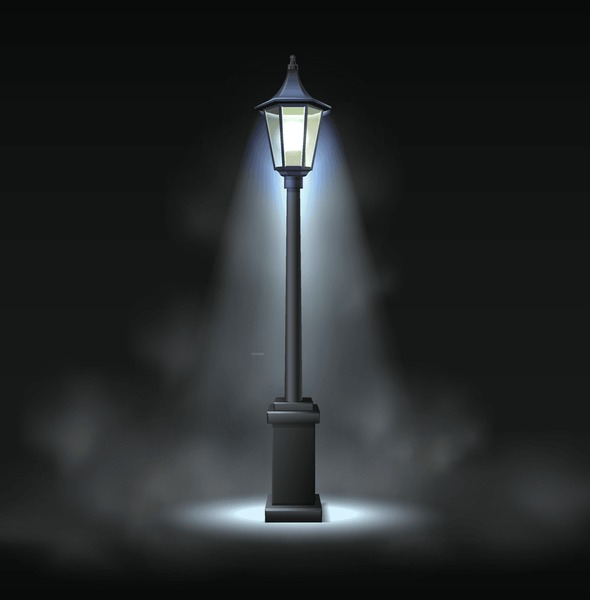Lamp: (232, 50, 356, 533)
